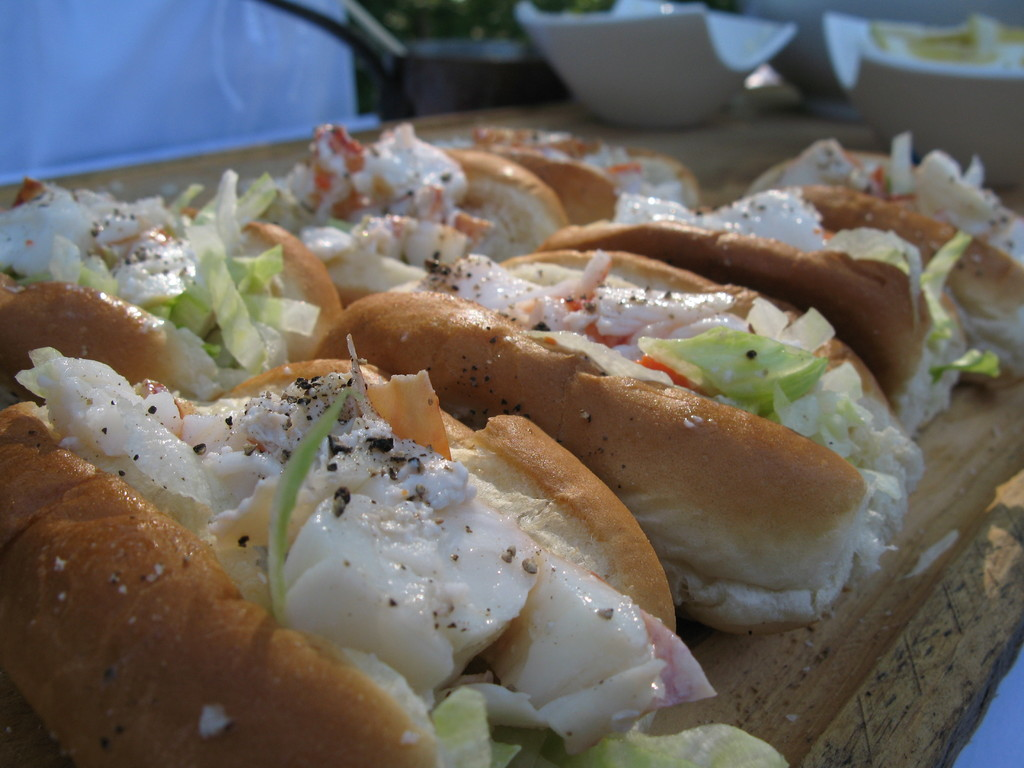hot_dog: (377, 202, 988, 612)
